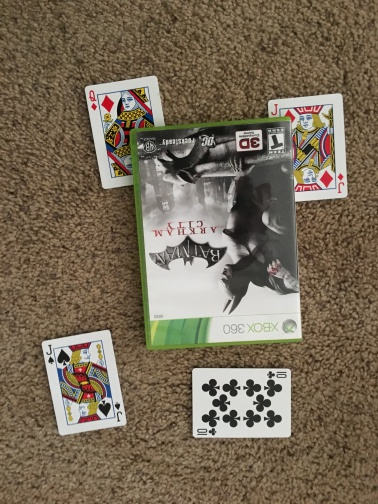jack: (267, 92, 348, 204), (41, 329, 127, 434)
queen: (84, 75, 166, 191)
ten: (189, 365, 294, 440)
